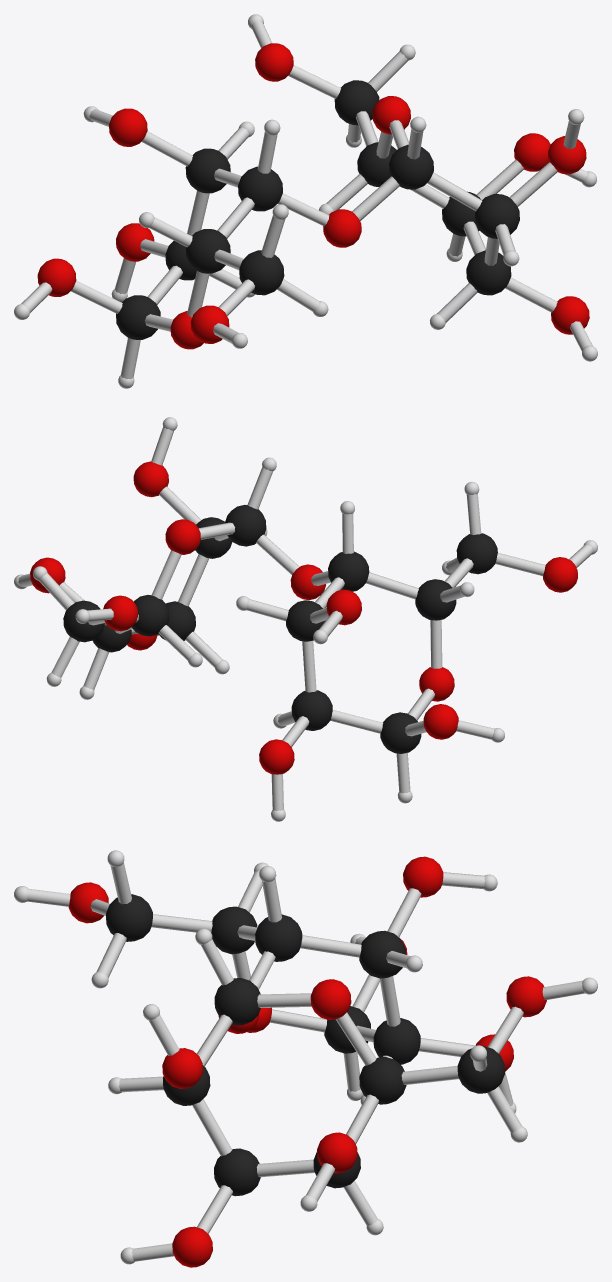
Rendered from lictose.fbx.
3 renders of one model, top to bottom at view 1: azimuth 30°, elevation 25°; view 2: azimuth 150°, elevation 25°; view 3: azimuth 270°, elevation 25°, orthographic. The views are drawn at different scales.
Parts seen in each view (by area): view 1: Group20, Group1, Group21, Group23, Group22, Group24, Group29, Group25, Group2, Group18, Group11, Group19 (+33 smaller); view 2: Group21, Group1, Group26, Group20, Group24, Group29, Group28, Group22, Group14, Group16, Group30, Group2 (+19 smaller); view 3: Group28, Group21, Group25, Group20, Group1, Group26, Group22, Group24, Group2, Group13, Group30, Group12 (+34 smaller).
Part boxes in pixels (bbox=[...]): Group20: bbox=[238, 166, 282, 211]; Group1: bbox=[239, 250, 284, 295]; Group21: bbox=[389, 144, 433, 189]; Group23: bbox=[475, 194, 519, 238]; Group22: bbox=[185, 148, 230, 193]; Group24: bbox=[185, 229, 230, 273]; Group29: bbox=[116, 295, 160, 339]; Group25: bbox=[466, 250, 511, 295]; Group2: bbox=[334, 80, 379, 125]; Group18: bbox=[255, 43, 293, 81]; Group11: bbox=[109, 108, 147, 146]; Group19: bbox=[323, 209, 361, 247]; Group21: bbox=[225, 505, 266, 546]; Group1: bbox=[456, 533, 497, 574]; Group26: bbox=[291, 690, 332, 730]; Group20: bbox=[328, 551, 369, 591]; Group24: bbox=[415, 579, 456, 620]; Group29: bbox=[380, 712, 421, 753]; Group28: bbox=[131, 595, 169, 636]; Group22: bbox=[286, 600, 325, 641]; Group14: bbox=[259, 739, 294, 774]; Group16: bbox=[423, 704, 458, 739]; Group30: bbox=[165, 519, 200, 554]; Group2: bbox=[63, 600, 104, 642]; Group28: bbox=[359, 1057, 406, 1104]; Group21: bbox=[214, 978, 260, 1025]; Group25: bbox=[214, 1148, 260, 1196]; Group20: bbox=[255, 914, 302, 961]; Group1: bbox=[106, 894, 152, 941]; Group26: bbox=[373, 1018, 420, 1064]; Group22: bbox=[359, 930, 405, 978]; Group24: bbox=[211, 906, 257, 954]; Group2: bbox=[457, 1046, 504, 1093]; Group13: bbox=[172, 1226, 212, 1267]; Group30: bbox=[310, 979, 351, 1019]; Group12: bbox=[162, 1048, 202, 1088].
Bounding box in the file's own units: 774 × 362 × 666.
